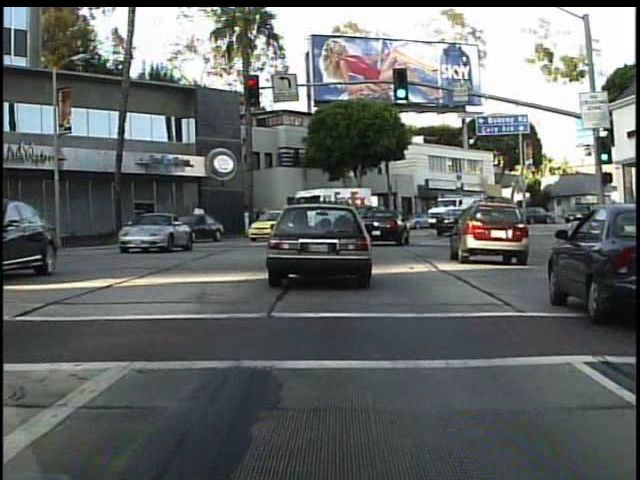person: (252, 203, 268, 237)
